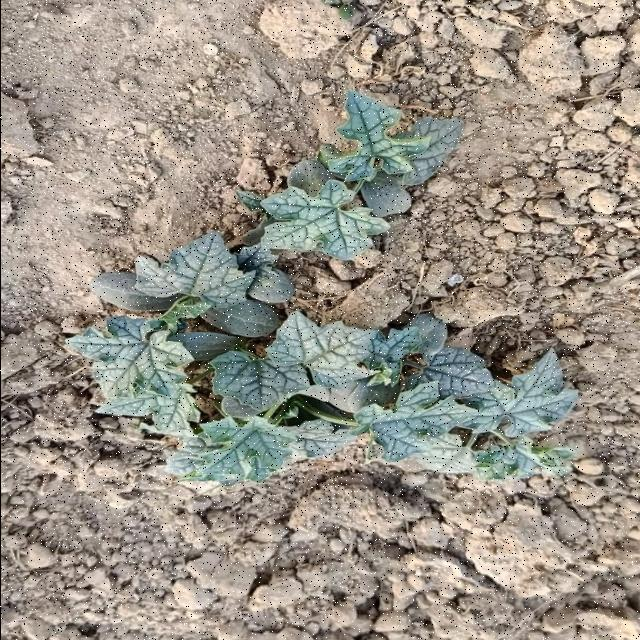plant: (67, 91, 576, 485)
